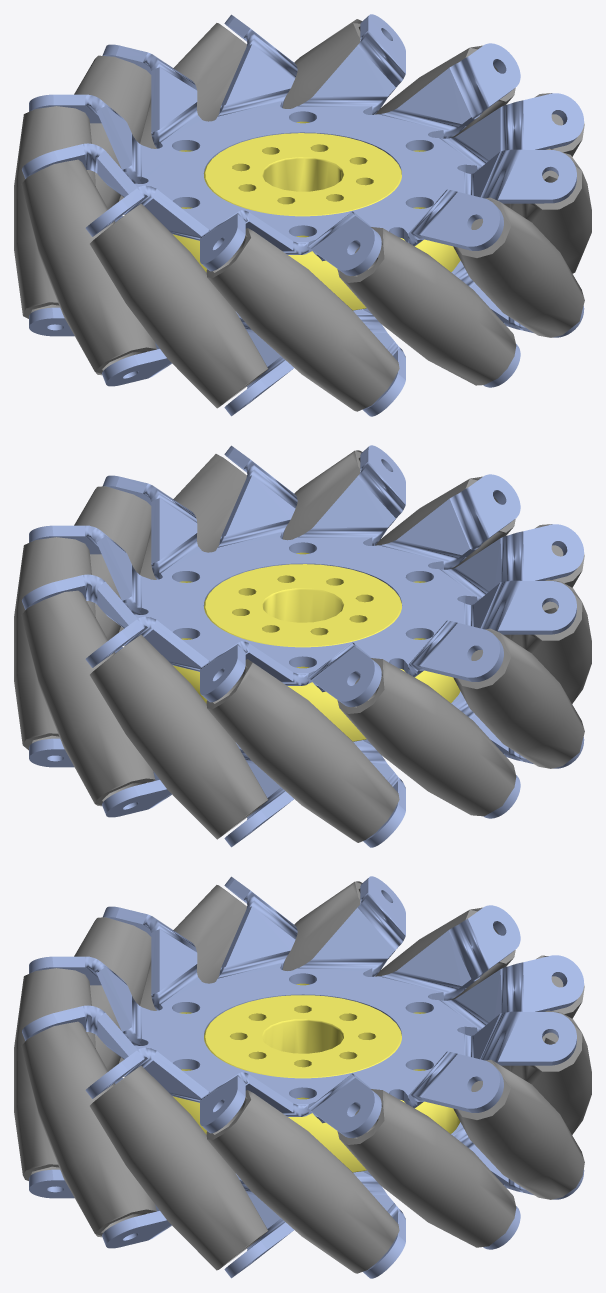
File: mecanum_right_wheel.dae
3 renders of one model, top to bottom at view 1: azimuth 30°, elevation 25°; view 2: azimuth 150°, elevation 25°; view 3: azimuth 270°, elevation 25°, orthographic.
Visible parts, largest first — view 1: Mecanum Wheel Right; view 2: Mecanum Wheel Right; view 3: Mecanum Wheel Right.
Boxes of the visible parts, left/top/right/bottom form: Mecanum Wheel Right: left=14, top=14, right=591, bottom=416; Mecanum Wheel Right: left=14, top=445, right=591, bottom=847; Mecanum Wheel Right: left=14, top=876, right=591, bottom=1278.
Size of the model in its own units: 0.102 by 0.102 by 0.0363.
